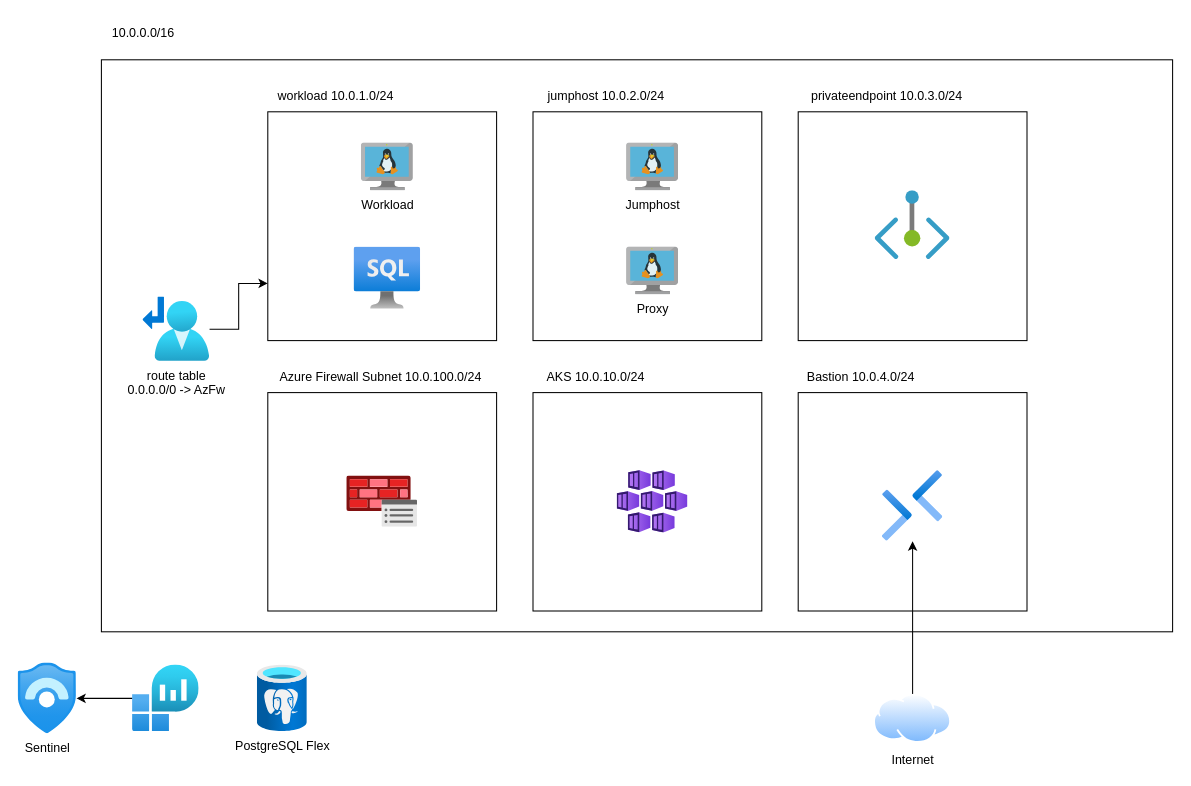
The diagram is 1191 pixels wide and 786 high, and some of its shapes have lost their labels. The box of each missing label's shape, as (x1, y1, x2, y2) in pixels:
AKS: (617, 470, 687, 532)
Azure Firewall: (346, 476, 417, 527)
log analytics: (132, 665, 199, 731)
